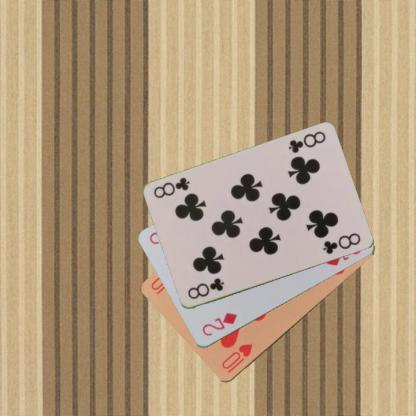10h: (219, 341, 254, 375)
2d: (199, 310, 239, 338)
8c: (285, 129, 327, 155), (185, 276, 225, 301)
